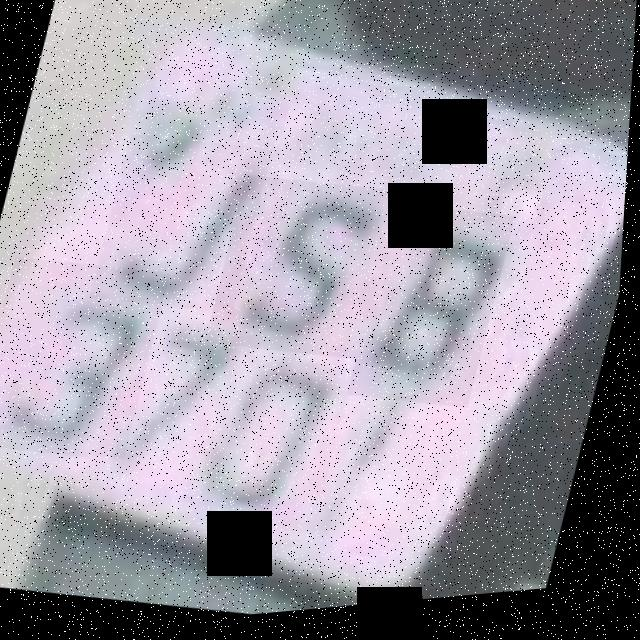0: (183, 329, 365, 551)
3: (0, 246, 175, 474)
7: (88, 296, 257, 508)
B: (351, 202, 520, 425)
J: (92, 127, 277, 328)
S: (208, 169, 402, 377)
